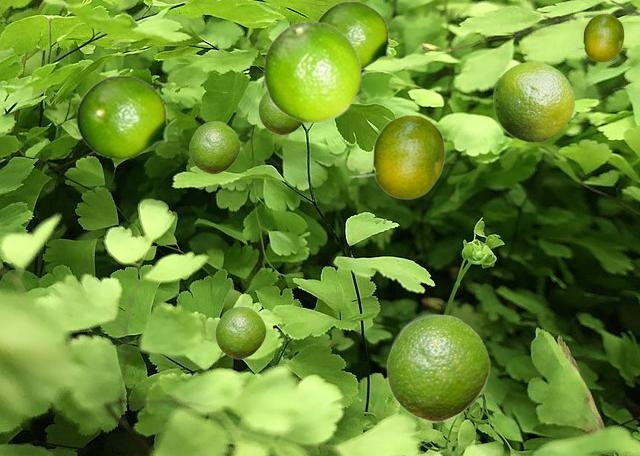calamansi: (386, 314, 489, 421), (263, 20, 361, 122), (390, 313, 487, 408), (75, 75, 177, 159), (348, 114, 444, 198), (493, 61, 573, 141), (315, 1, 397, 71), (189, 121, 239, 173), (215, 306, 265, 358), (569, 13, 623, 61), (258, 90, 303, 134)
